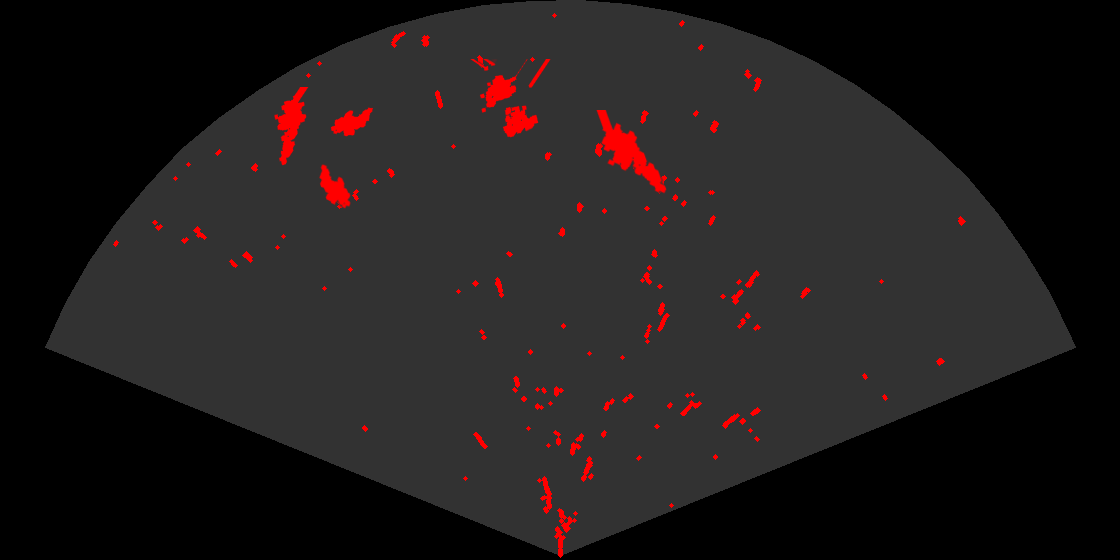AUV: (318, 163, 352, 210), (329, 106, 375, 138)
cage: (469, 59, 552, 139)
frogman: (595, 110, 668, 195), (273, 87, 310, 167)
